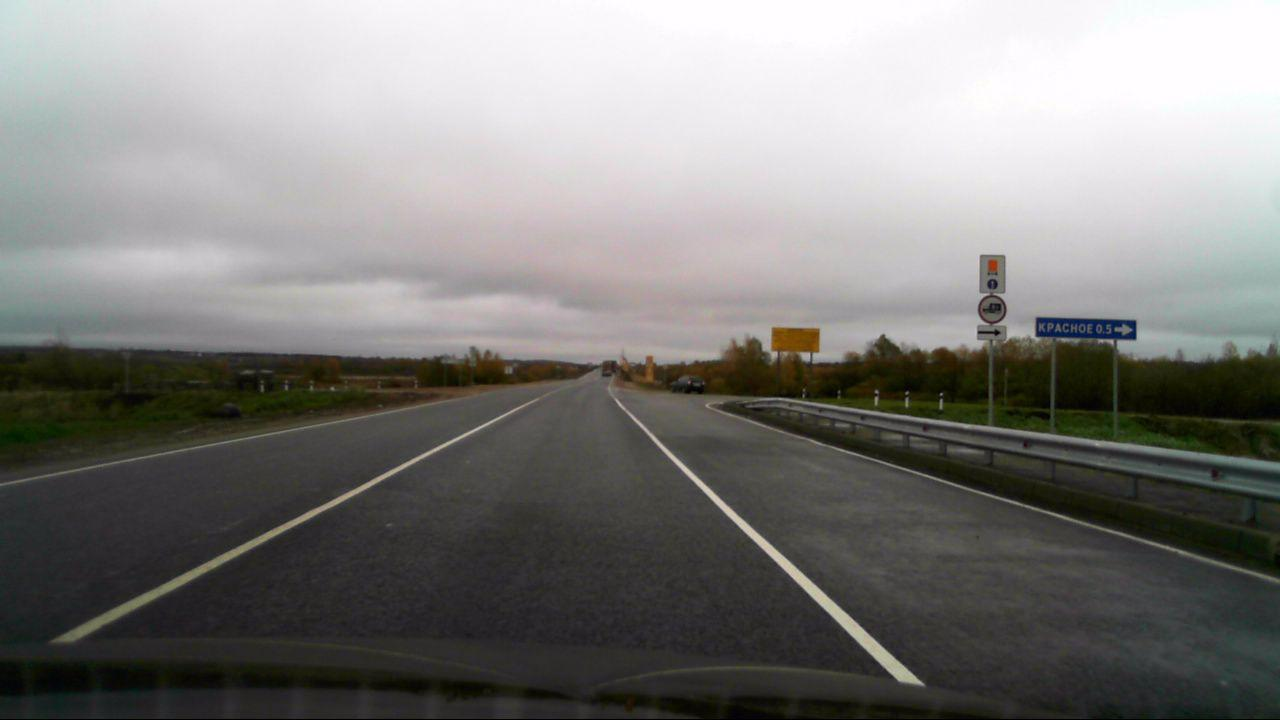3_4: (978, 296, 1006, 323)
4_8_1: (979, 254, 1006, 294)
6_10_1: (1034, 314, 1137, 342)
8_3_1: (977, 325, 1006, 340)
